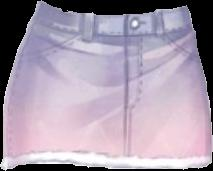Hemline: (3, 161, 211, 170)
Waistline: (30, 19, 191, 37), (38, 0, 186, 17)
